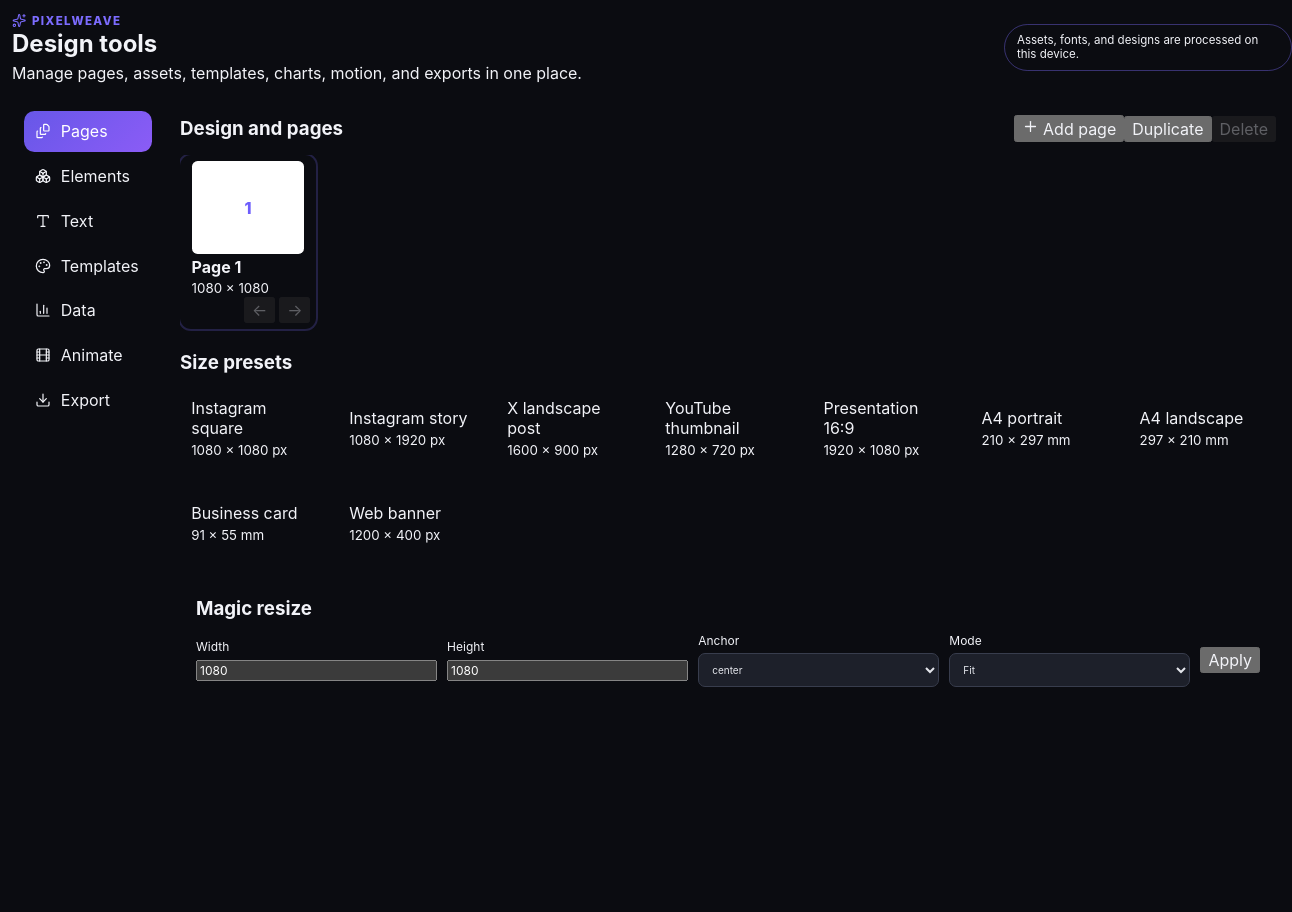
DesignStudioPanel › reports invalid table dimensions without throwing from the click
Click the button "Data": click(88, 310) [24,290,152,331]
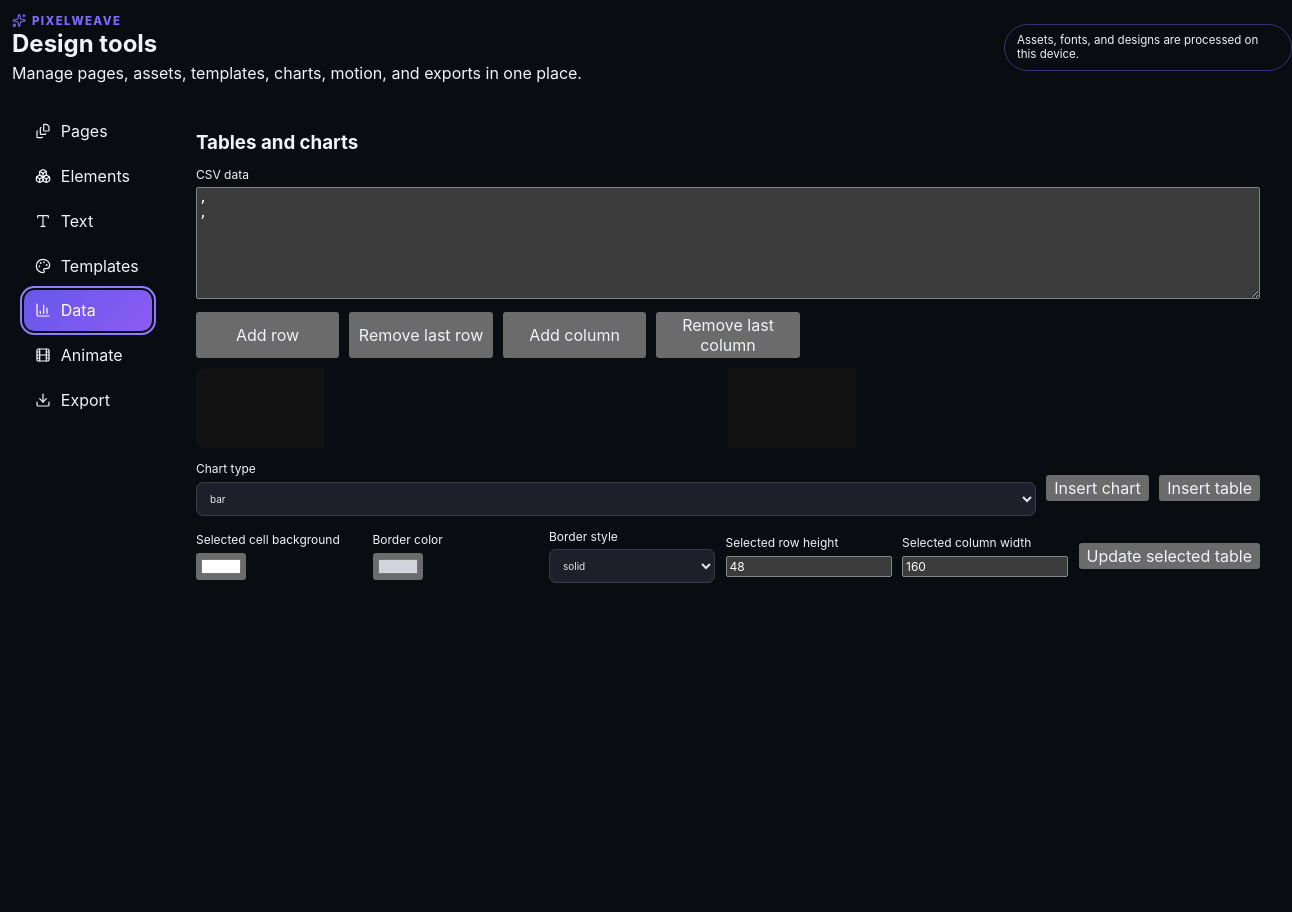
Clear the number field labelled "Selected row height": (809, 566) [726,556,892,577]
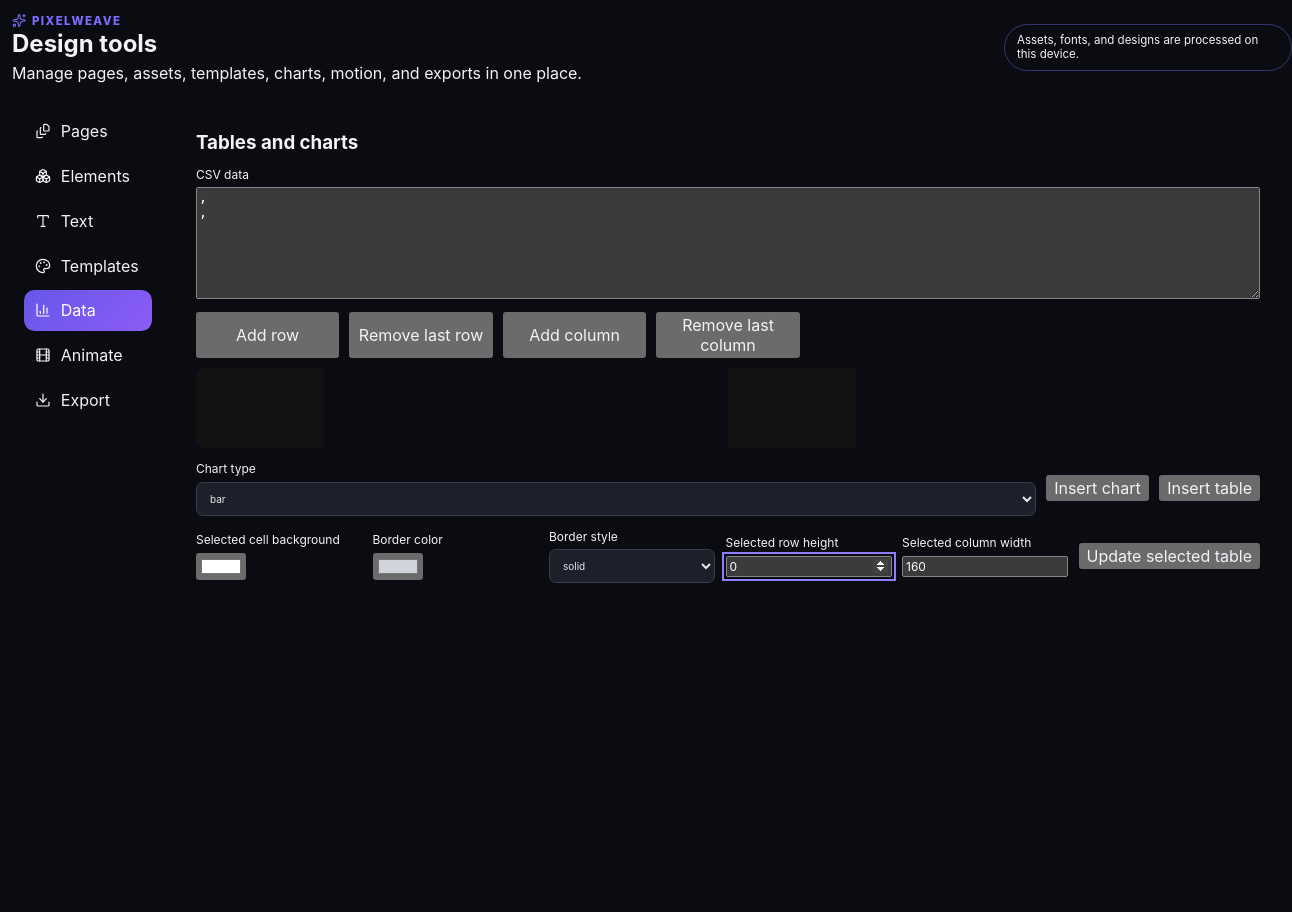
Click the button "Update selected table": click(1169, 556) [1078,543,1260,569]
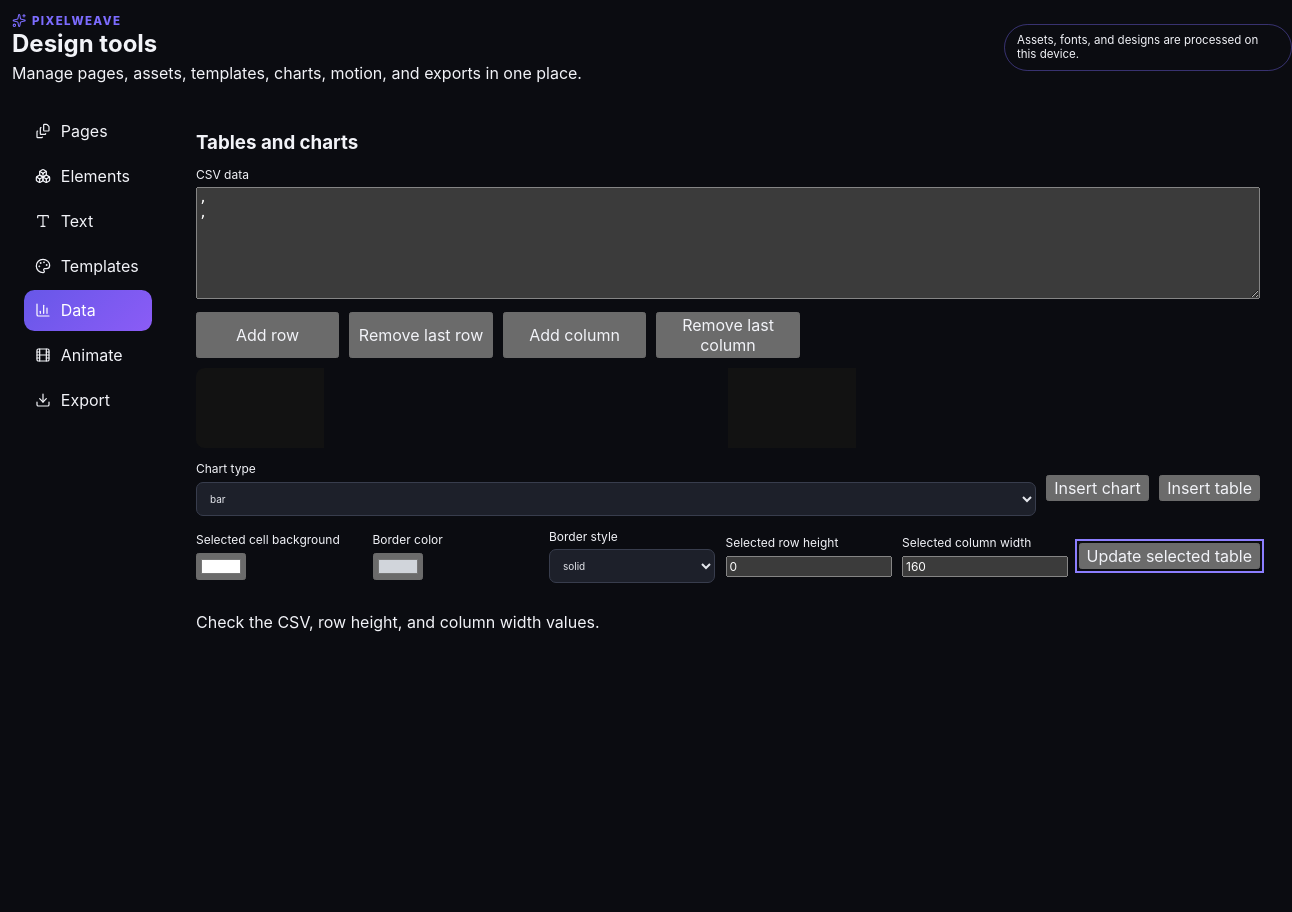
Result: the message reads "Check the CSV, row height, and column width values." at [196,612,600,632]
